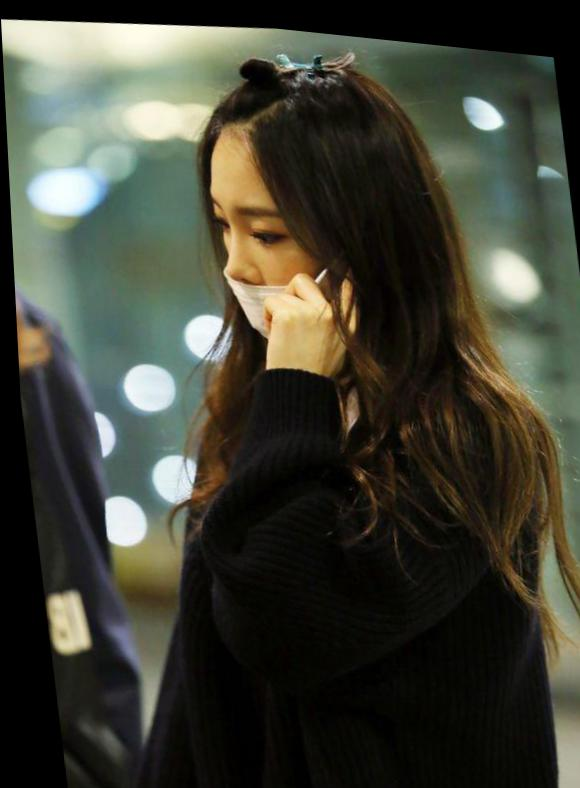WRONG: (190, 177, 368, 362)
